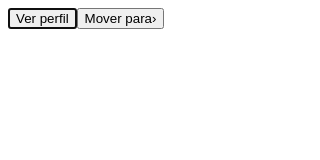
Scenario: ContextMenu — a escada › clicar abre a escada, com os letreiros das categorias, e escolher uma sala move e fecha tudo
Click the menu item "Mover para›": x=121, y=18 [77,8,164,29]
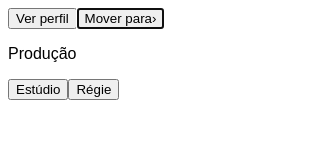
Result: the menu named "Mover para" is shown at [8,45,119,100]
Result: the text "Produção" is shown at [8,45,76,62]
Note: A click inside the cascade does not count as a click outside the menu.
Click the menu item "Régie": x=94, y=90 [68,79,119,100]
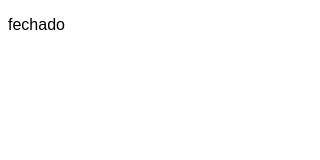
Result: the text "fechado" is shown at [8,16,65,33]
